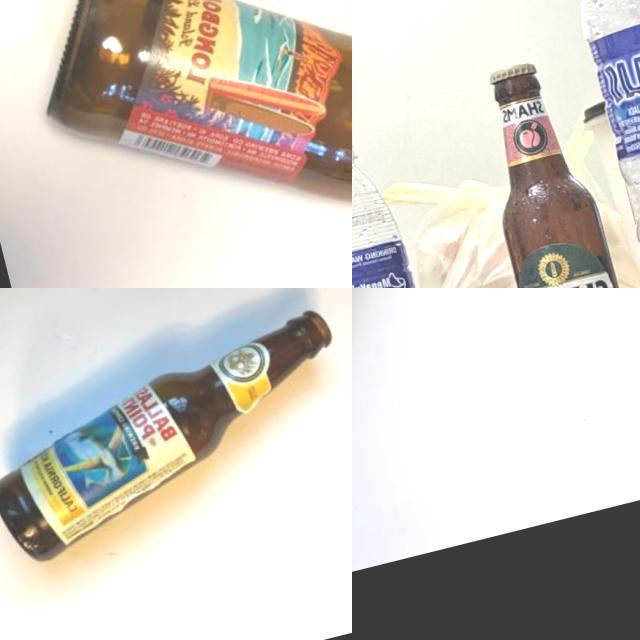garrafa de vidro: (15, 0, 352, 288), (0, 303, 352, 573), (352, 288, 516, 640), (463, 51, 628, 288)
garrafa plástica: (552, 0, 640, 288), (352, 151, 430, 288)
